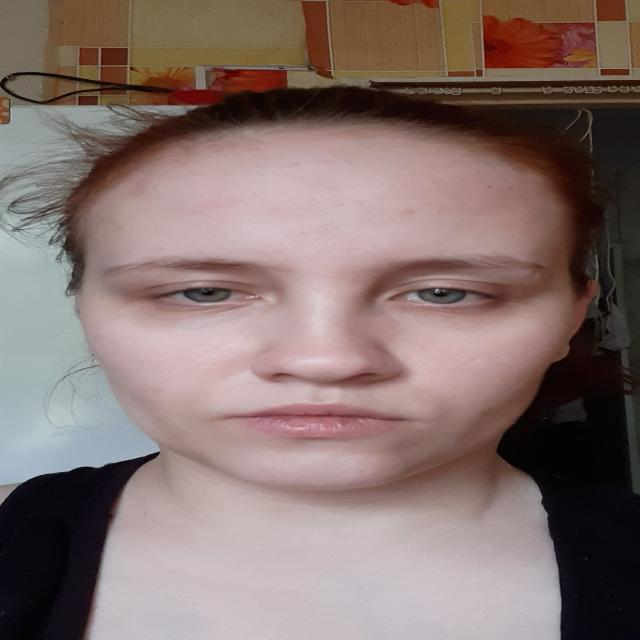Acne: (130, 180, 152, 194), (148, 384, 168, 393), (352, 199, 369, 206), (401, 209, 416, 216), (434, 207, 446, 214)
Englarged-Pores: (406, 342, 476, 378), (193, 339, 243, 374)
